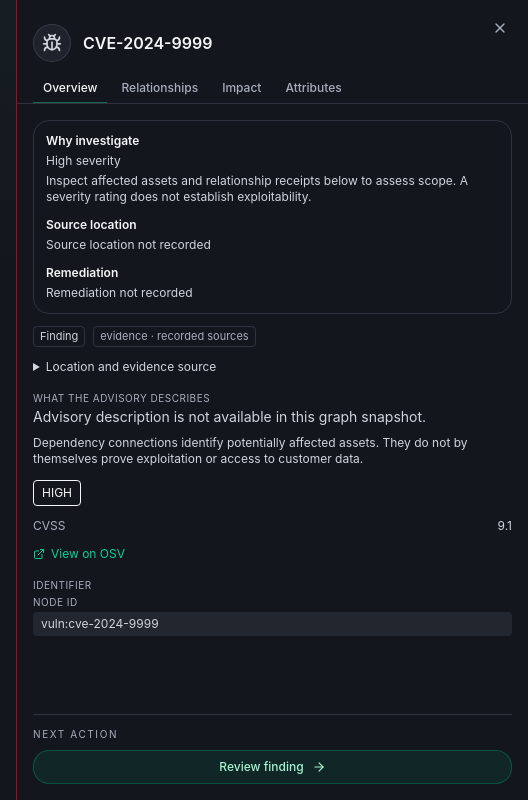
Test: graph entity drawer tabs › qualifies structural counts without claiming successful exploitation or damage
What coordinates should you click on to do the following:
click the tab with test id "graph-drawer-tab-impact"
I would click on:
 (242, 89)
Its box is [212,74,271,104].
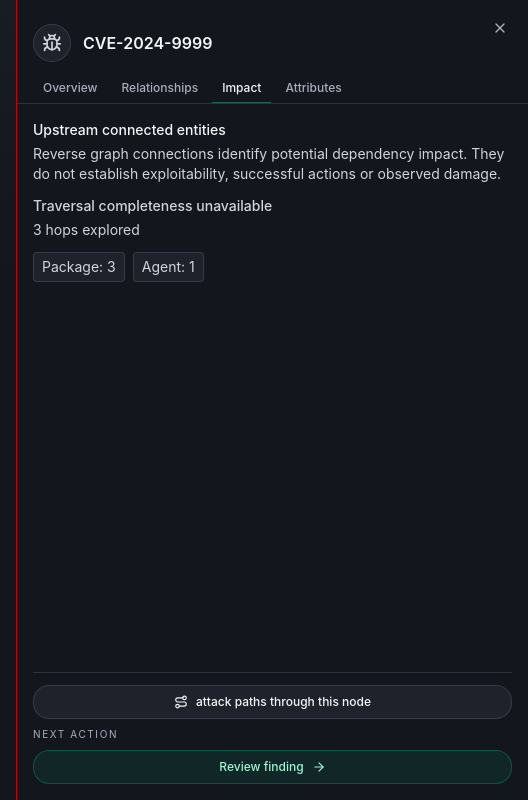
Check: the text "Upstream connected entities" is shown, box [33,121,226,138]
Check: the text "do not establish exploitability, successful actions or observed damage" is shown, box [33,145,504,182]
Check: the text "Traversal completeness unavailable" is shown, box [33,197,272,214]
